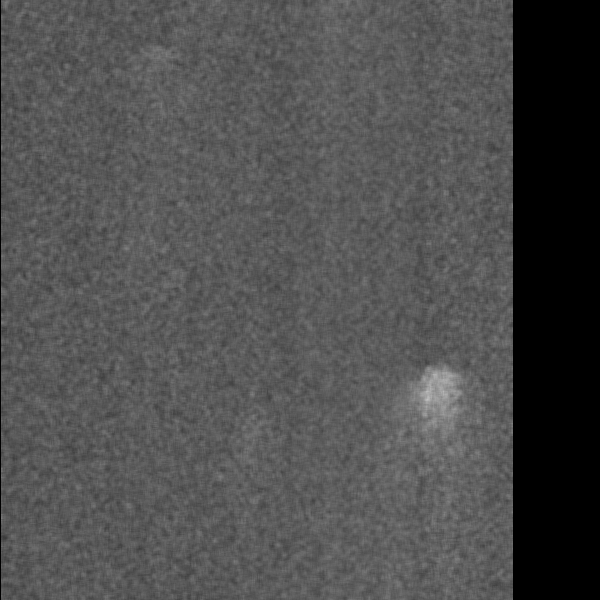spark: (171, 184, 222, 261), (166, 350, 225, 409), (463, 259, 493, 351), (305, 55, 333, 100), (177, 416, 216, 441), (354, 483, 372, 534), (150, 105, 180, 134), (37, 275, 64, 302), (208, 505, 228, 530), (205, 286, 231, 305), (451, 305, 469, 325)
